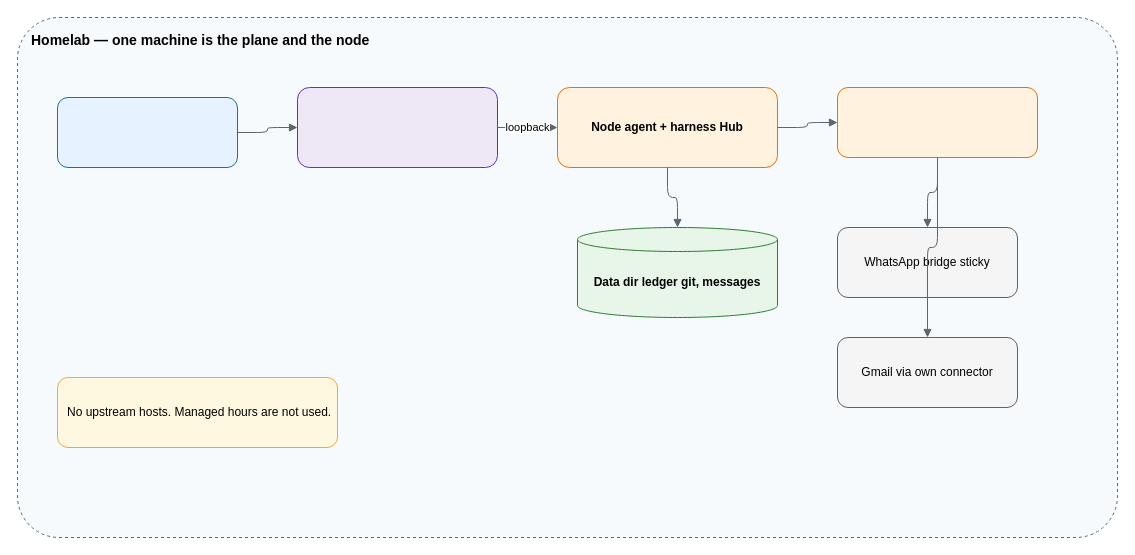
Some shapes in this 1135 by 555 pixel diagram are drawn without their labels. The box of each missing label's shape, as (x1, y1, x2, y2) in pixels:
Alex browser and phone: (56, 96, 238, 168)
Bots, routines inbox triage: (836, 86, 1038, 158)
Control plane embedded: (296, 86, 498, 168)
